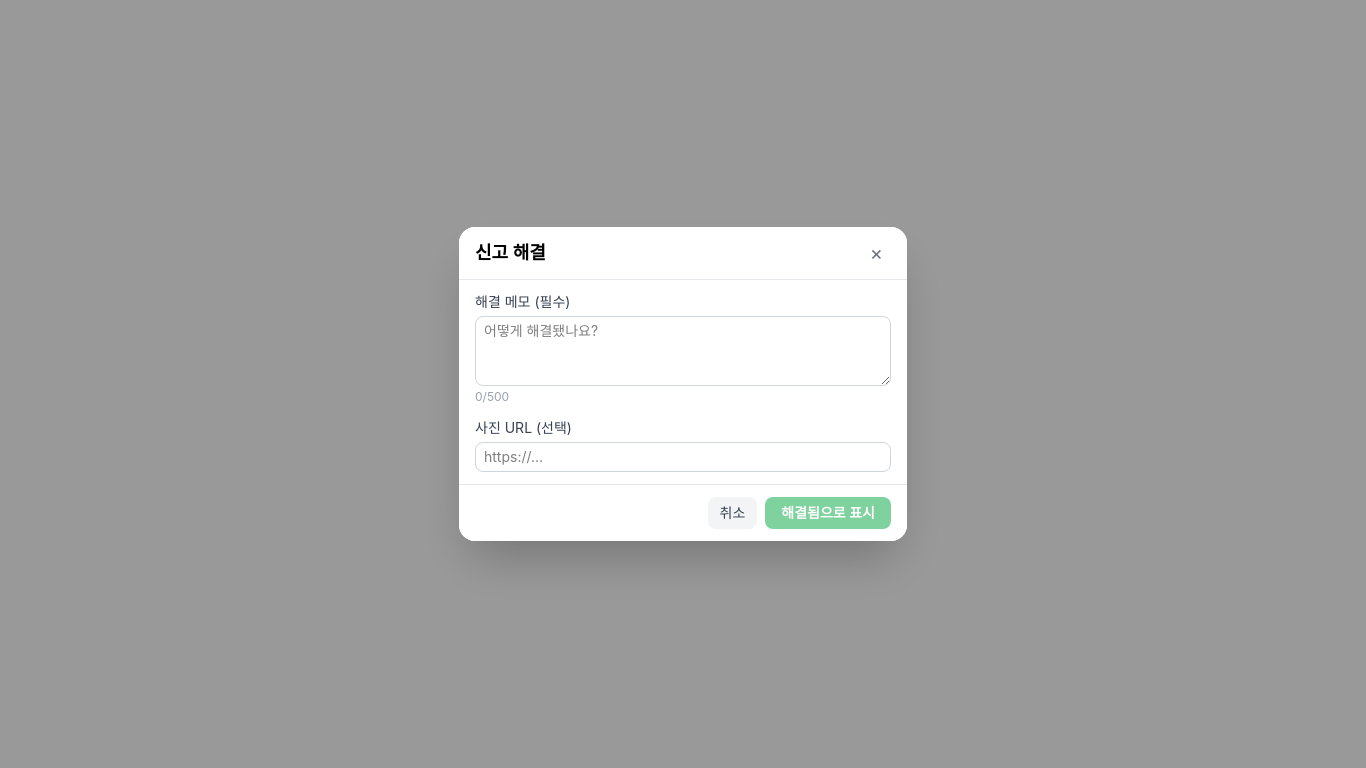
Test case: ReportResolveModal › shows 24h-window error for 403
Type "치웠음" into the text box with test id "resolve-note" at (683, 351), box [475, 316, 891, 386]
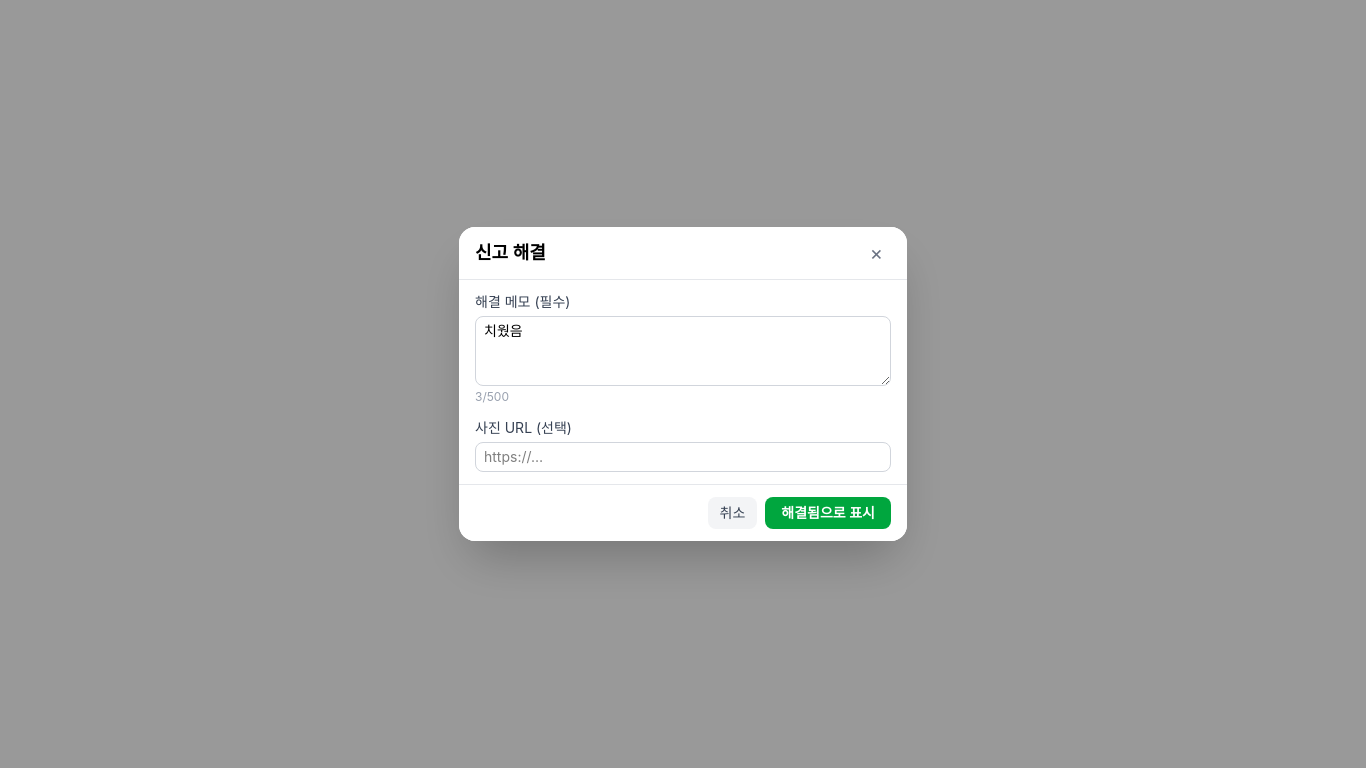
Click the button with test id "resolve-submit-button" at (828, 513), box [765, 497, 891, 529]
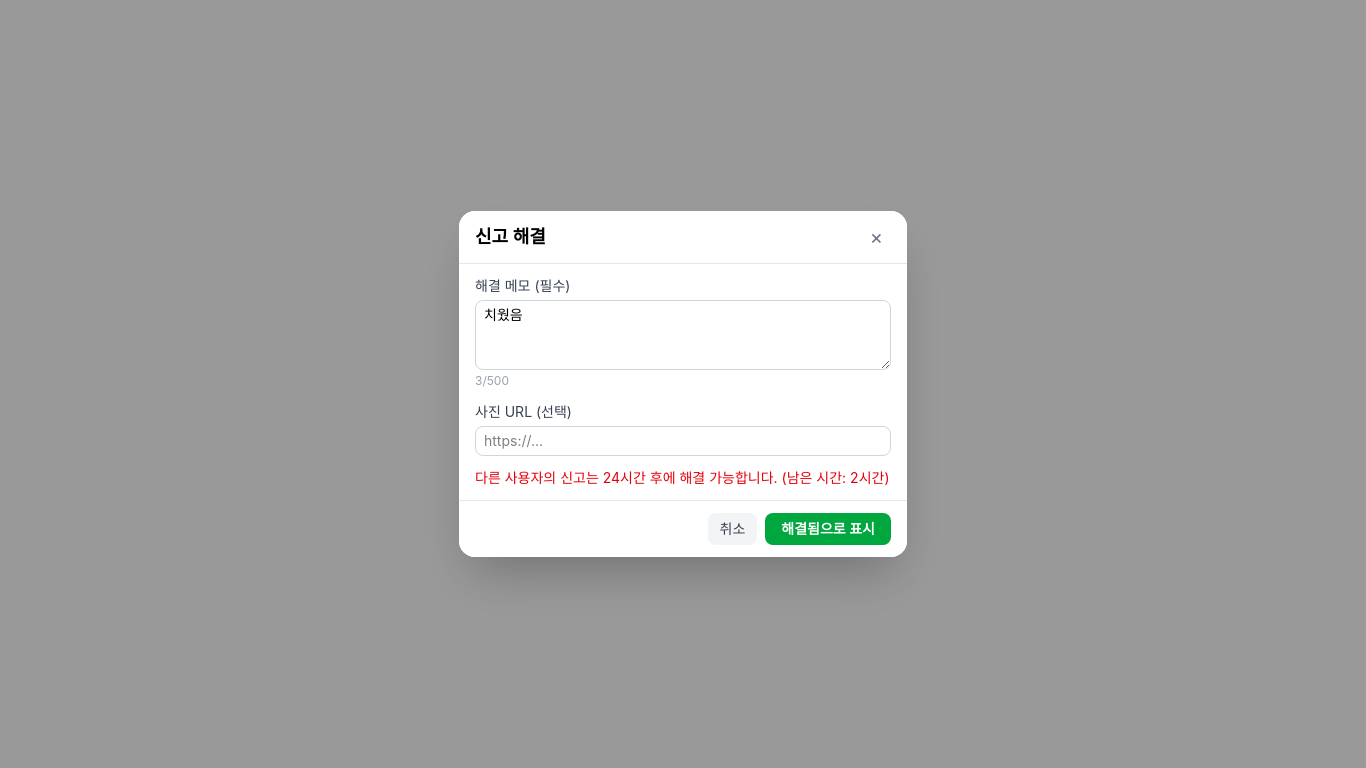
Check: the text "다른 사용자의 신고는 24시간 후에 해결 가능합니다. (남은 시간: 2시간)" is shown, box [475, 468, 891, 488]
